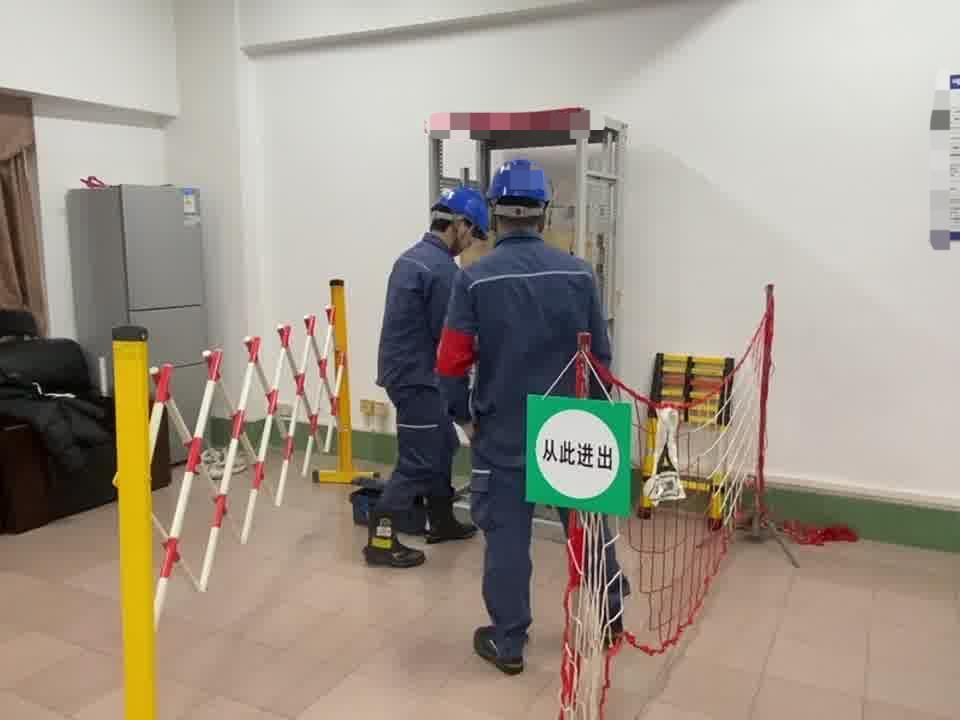halt: (490, 156, 555, 236), (433, 188, 492, 248)
inear: (450, 218, 475, 252)
